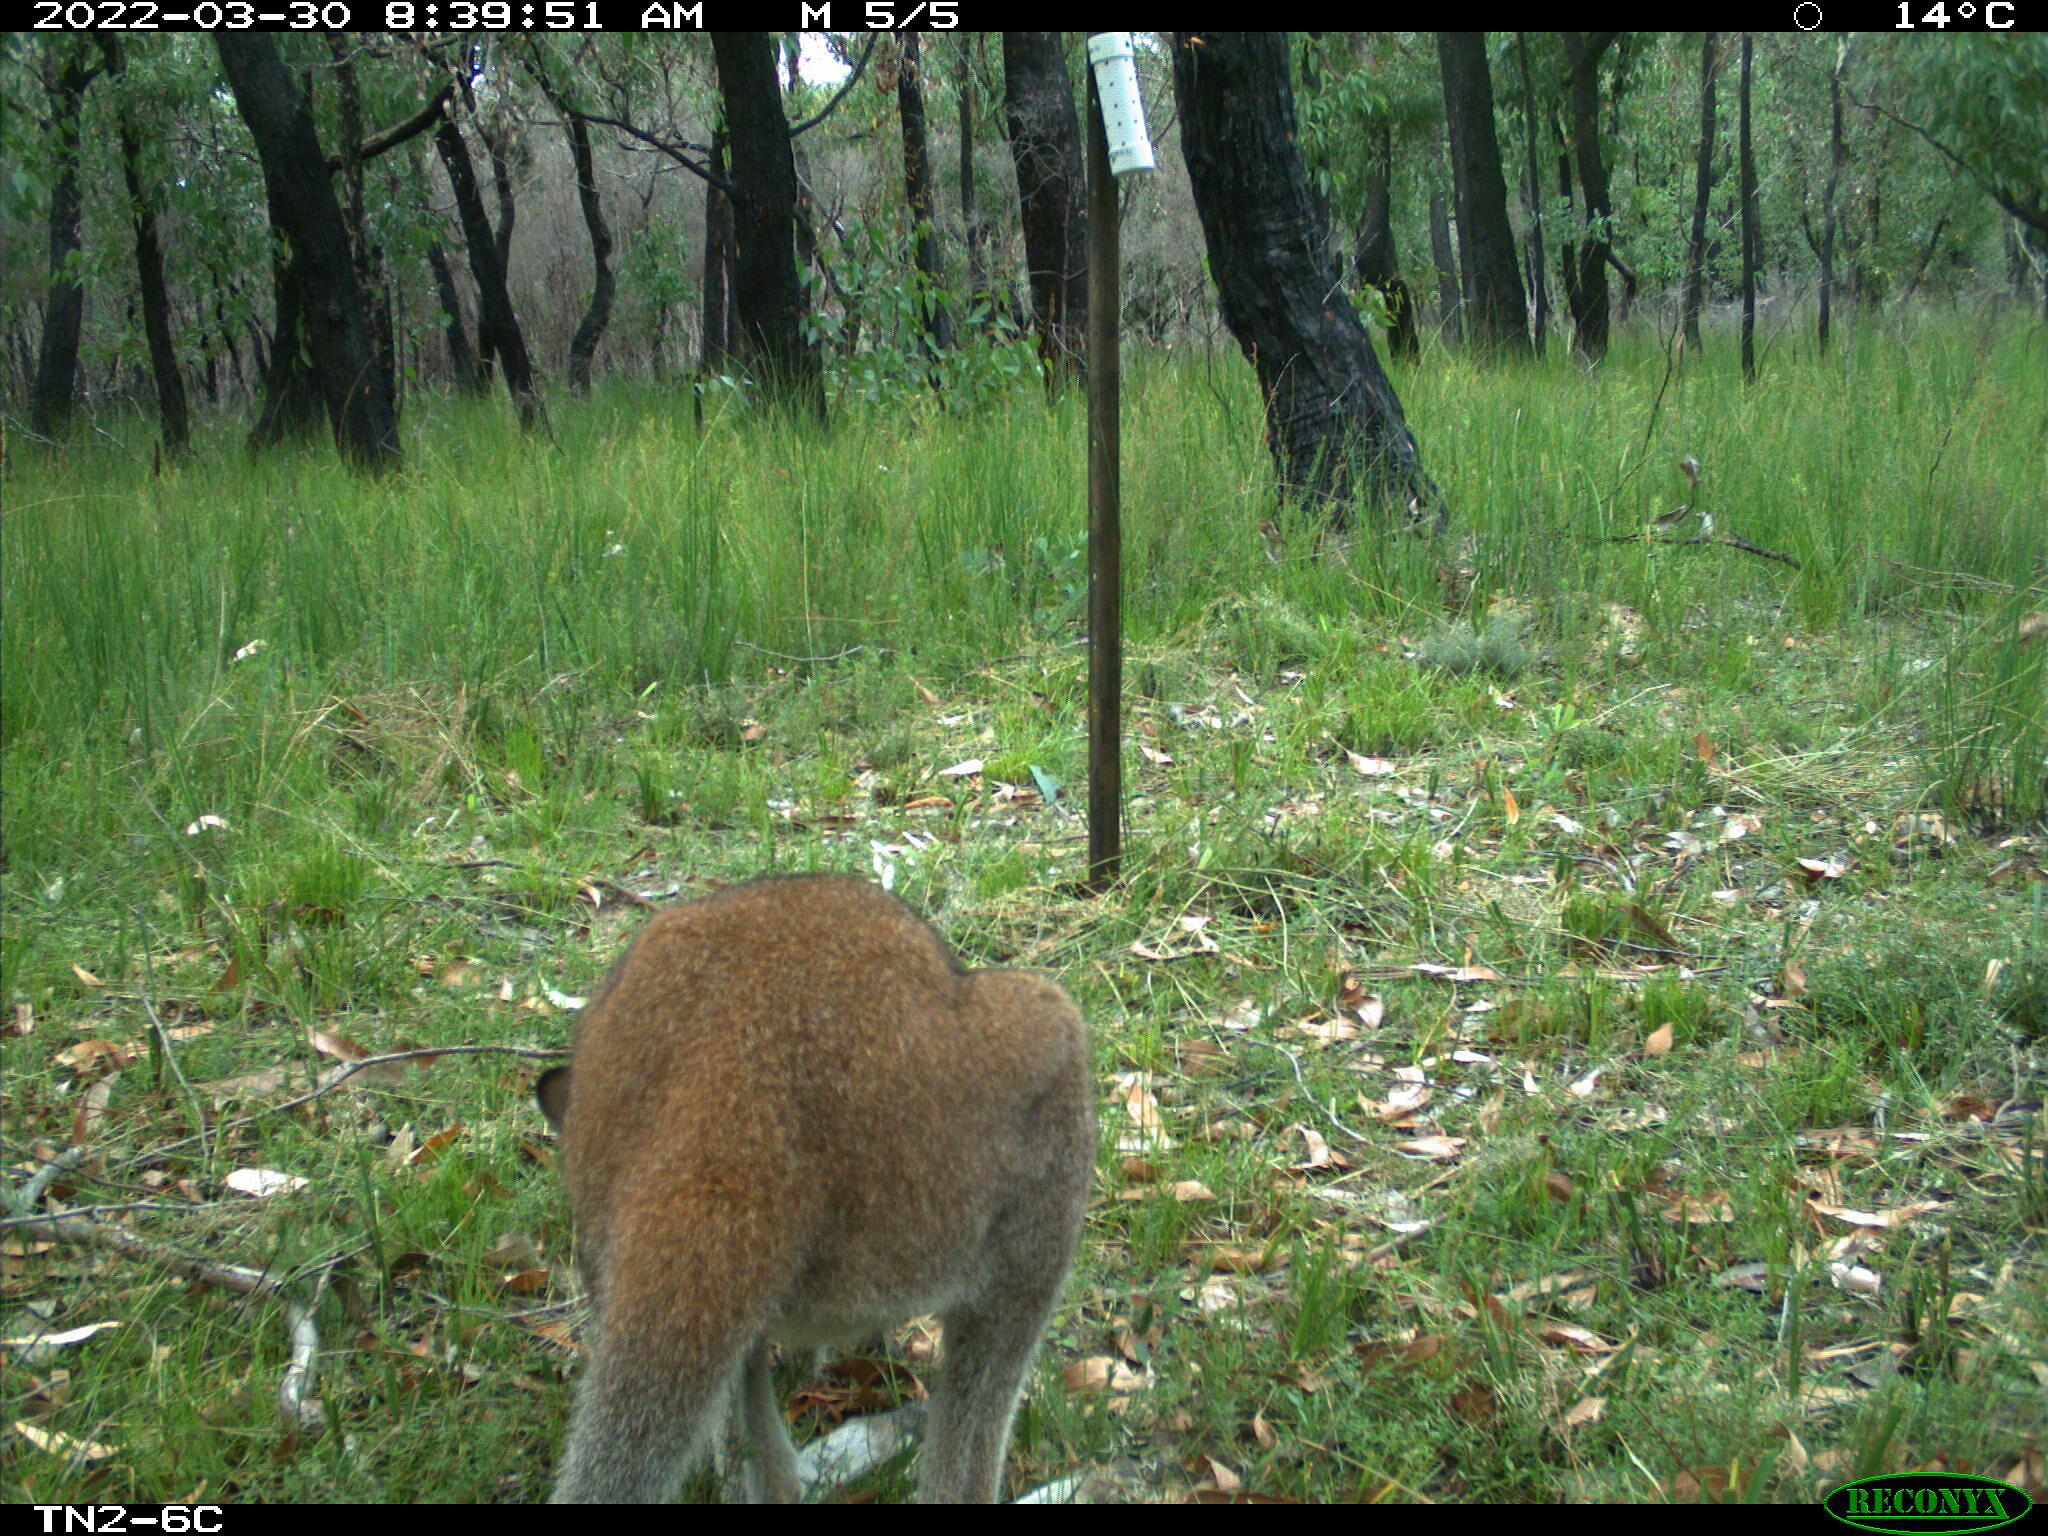Red-necked wallaby: (532, 860, 1098, 1502)
